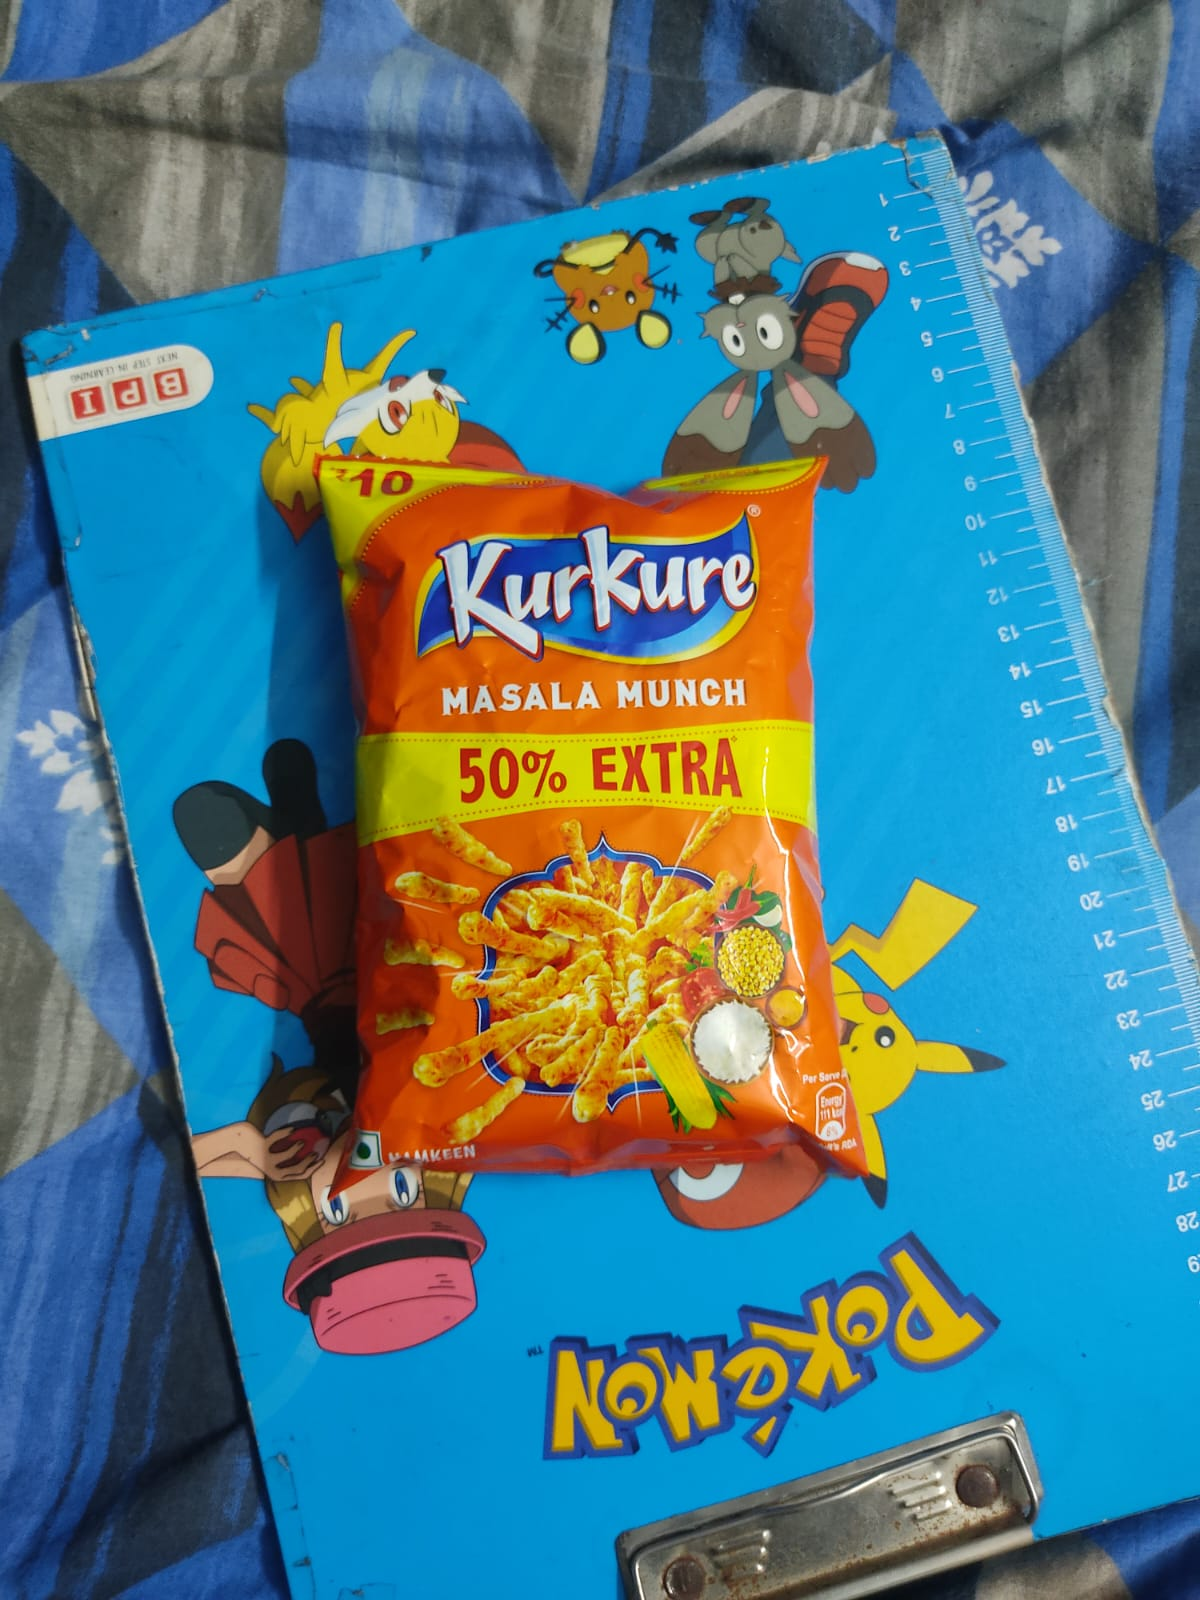010_Kurkure: (330, 466, 855, 1148)
